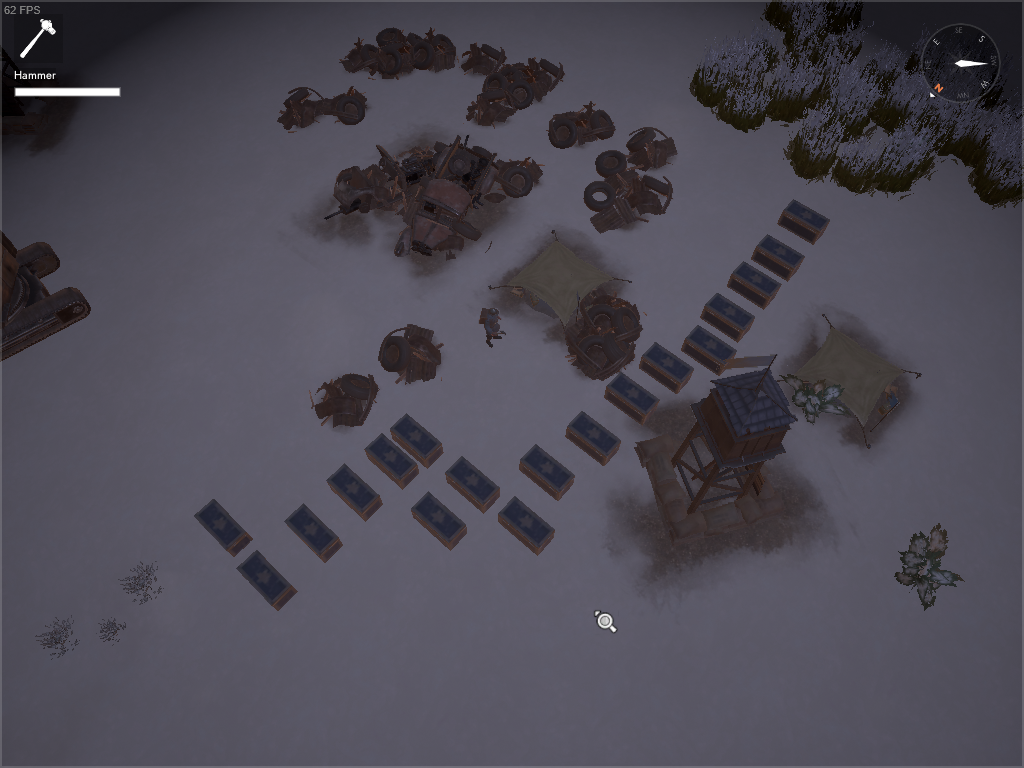crane: (1, 230, 92, 363)
foxhole: (772, 313, 923, 452), (487, 231, 635, 342)
player: (478, 305, 507, 349)
scrap: (583, 151, 676, 235), (564, 289, 646, 383), (463, 55, 567, 129), (341, 26, 458, 81), (378, 324, 447, 388), (307, 372, 381, 430), (278, 86, 371, 131), (547, 102, 617, 150), (626, 126, 681, 173), (460, 42, 508, 78)
scrapyard: (324, 133, 546, 263)
storage_box: (235, 550, 298, 613), (193, 497, 255, 560), (283, 502, 344, 565), (497, 495, 556, 558), (325, 463, 385, 524), (411, 492, 469, 552), (363, 433, 421, 491), (564, 410, 623, 467), (518, 444, 576, 501), (389, 413, 446, 470), (445, 456, 501, 514), (637, 342, 697, 395), (605, 372, 661, 426), (698, 292, 757, 342), (681, 325, 737, 377), (726, 260, 782, 310), (750, 235, 806, 283), (777, 199, 833, 247)
watchtower: (633, 354, 793, 544)
